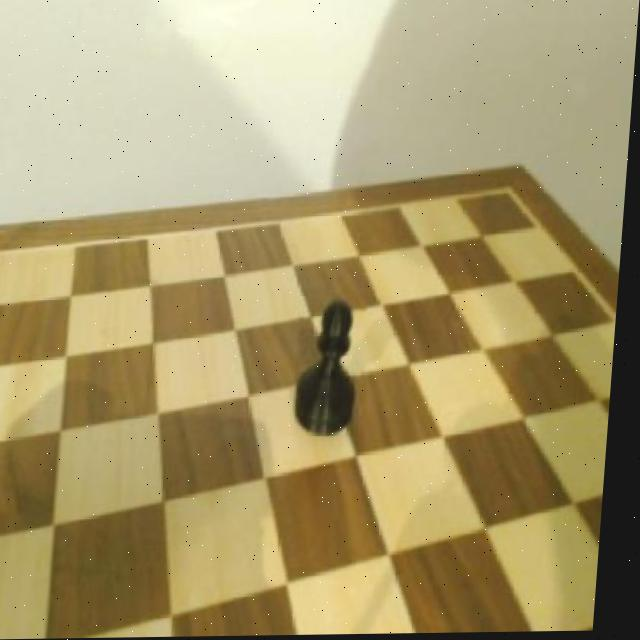black-knight: (296, 297, 373, 441)
